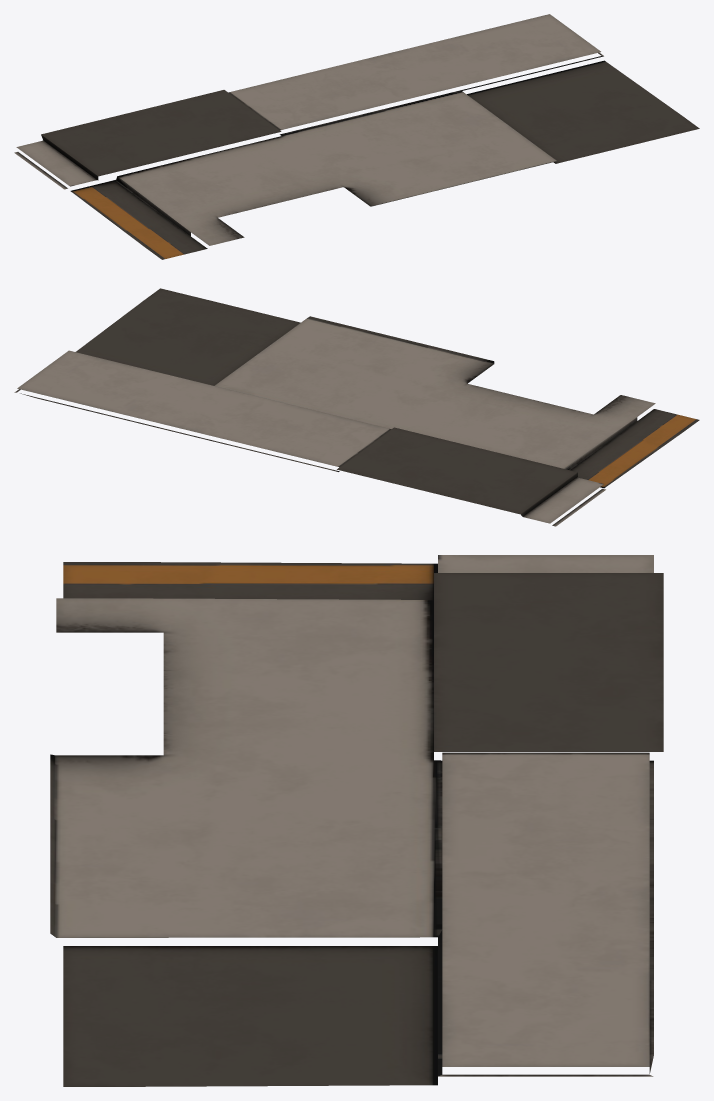
The model's file is top.gltf.
3 views of the same model, one above another, from view 1: azimuth 30°, elevation 25°; view 2: azimuth 150°, elevation 25°; view 3: azimuth 270°, elevation 25° (orthographic). The views are drawn at different scales.
Parts seen in each view (by area): view 1: TOP; view 2: TOP; view 3: TOP.
Boxes of the visible parts, left/top/right/bottom form: TOP: left=14, top=14, right=699, bottom=259; TOP: left=14, top=288, right=699, bottom=526; TOP: left=50, top=555, right=663, bottom=1086.
Bounding box in the file's own units: 2.64 × 0.0403 × 1.3.
Materials: 1 (1 with a texture image).
